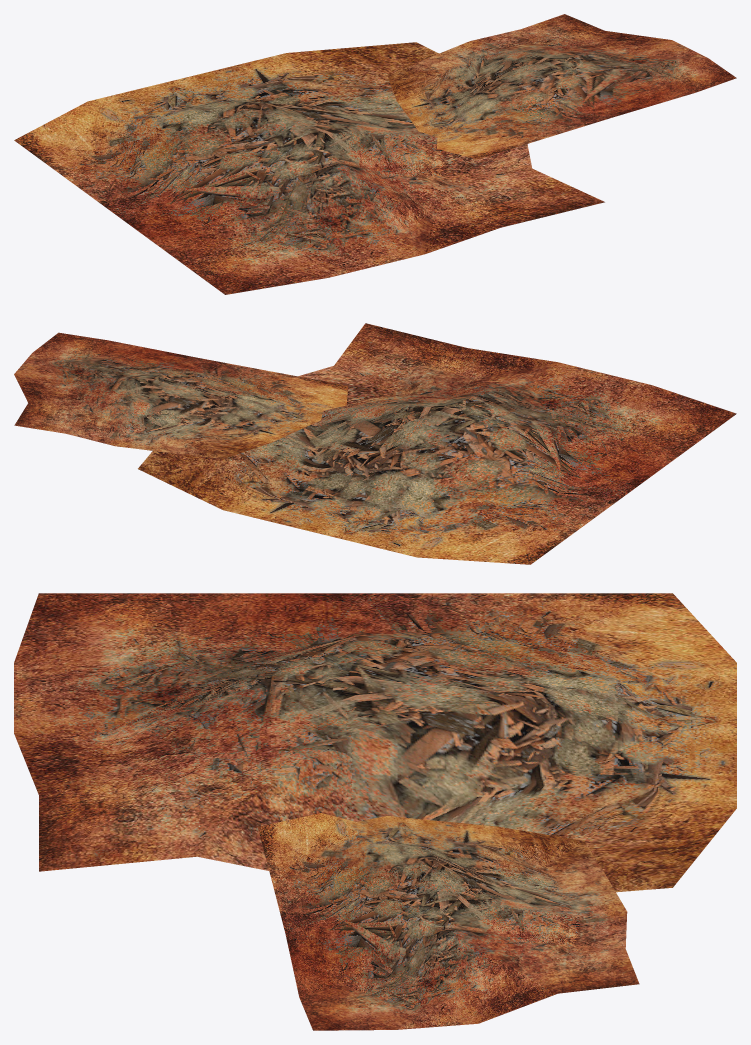
Rendered from dust_heap.FBX.
3 renders of one model, top to bottom at view 1: azimuth 30°, elevation 25°; view 2: azimuth 150°, elevation 25°; view 3: azimuth 270°, elevation 25°, orthographic. The views are drawn at different scales.
Parts seen in each view (by area): view 1: dust_heap; view 2: dust_heap; view 3: dust_heap.
Part boxes in pixels (left/top/right/bottom): dust_heap: left=14, top=14, right=736, bottom=294; dust_heap: left=14, top=323, right=736, bottom=564; dust_heap: left=14, top=593, right=736, bottom=1030.
Bounding box in the file's own units: 0.7843 × 0.0442 × 0.5426.
